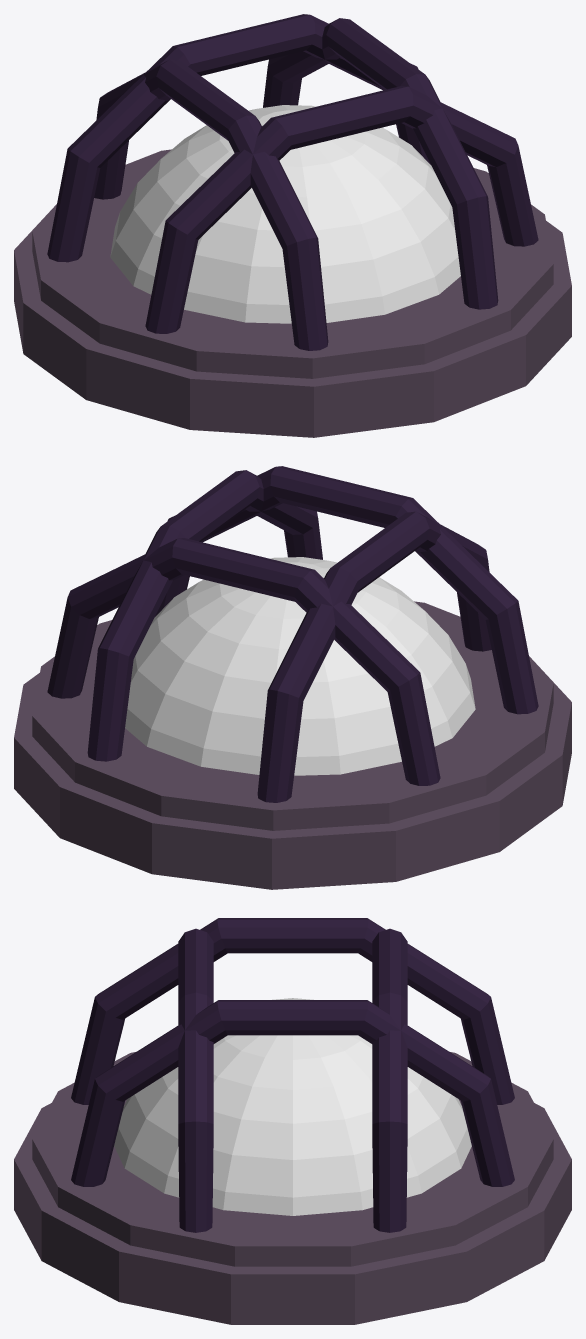
The model's file is sewerlamp.fbx.
3 renders of one model, top to bottom at view 1: azimuth 30°, elevation 25°; view 2: azimuth 150°, elevation 25°; view 3: azimuth 270°, elevation 25°, orthographic.
Visible parts, largest first — view 1: Sphere; view 2: Sphere; view 3: Sphere.
Part boxes in pixels (x1=…): Sphere: x1=14, y1=14, x2=571, y2=437; Sphere: x1=14, y1=466, x2=571, y2=889; Sphere: x1=14, y1=918, x2=571, y2=1324.
Bounding box in the file's own units: 102 × 51.59 × 105.
